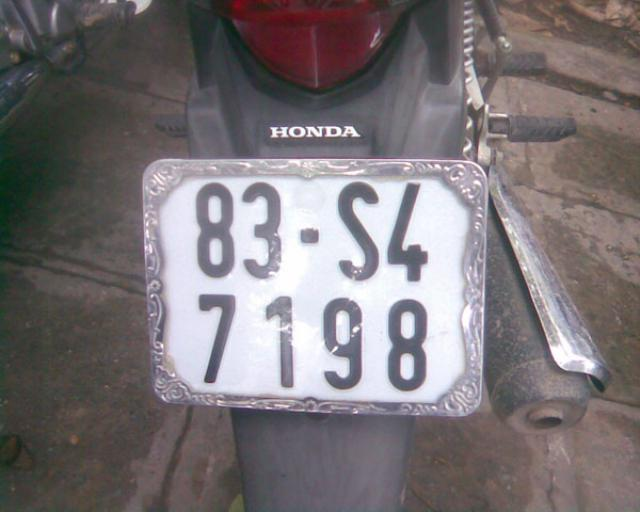plate: (145, 158, 481, 416)
